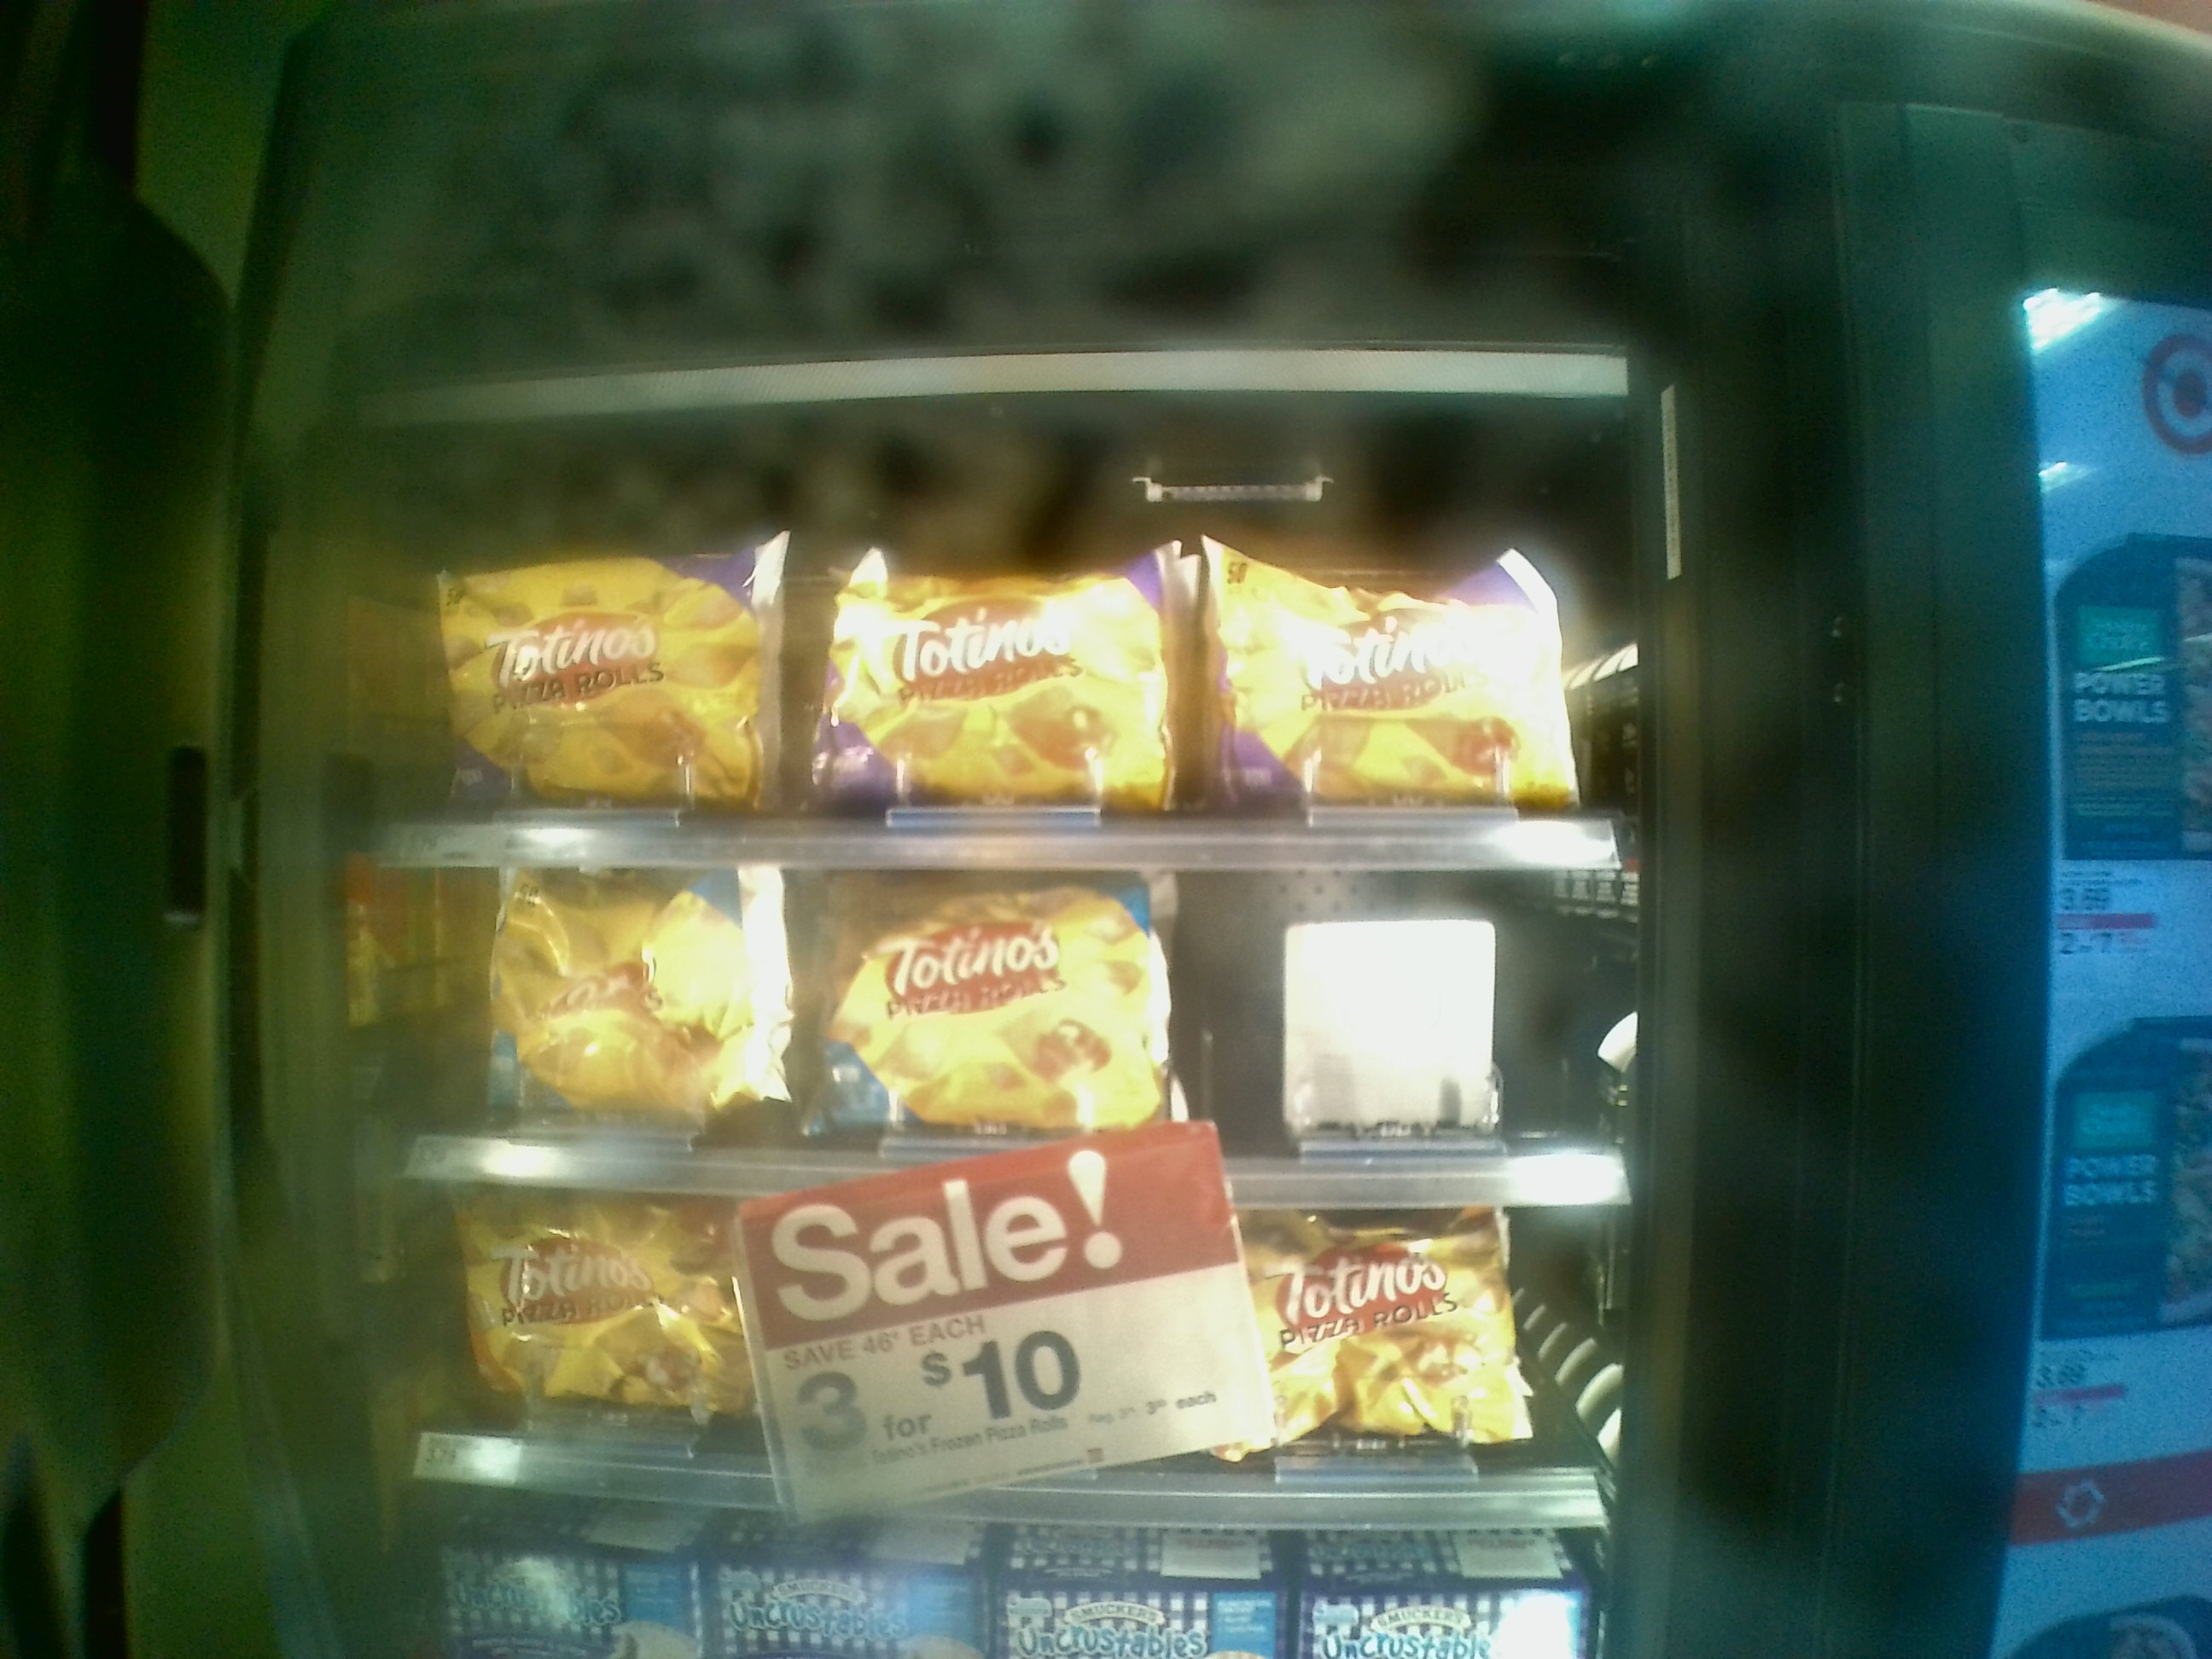shelf: (333, 422, 1627, 878), (308, 866, 1641, 1204), (317, 1190, 1622, 1535)
